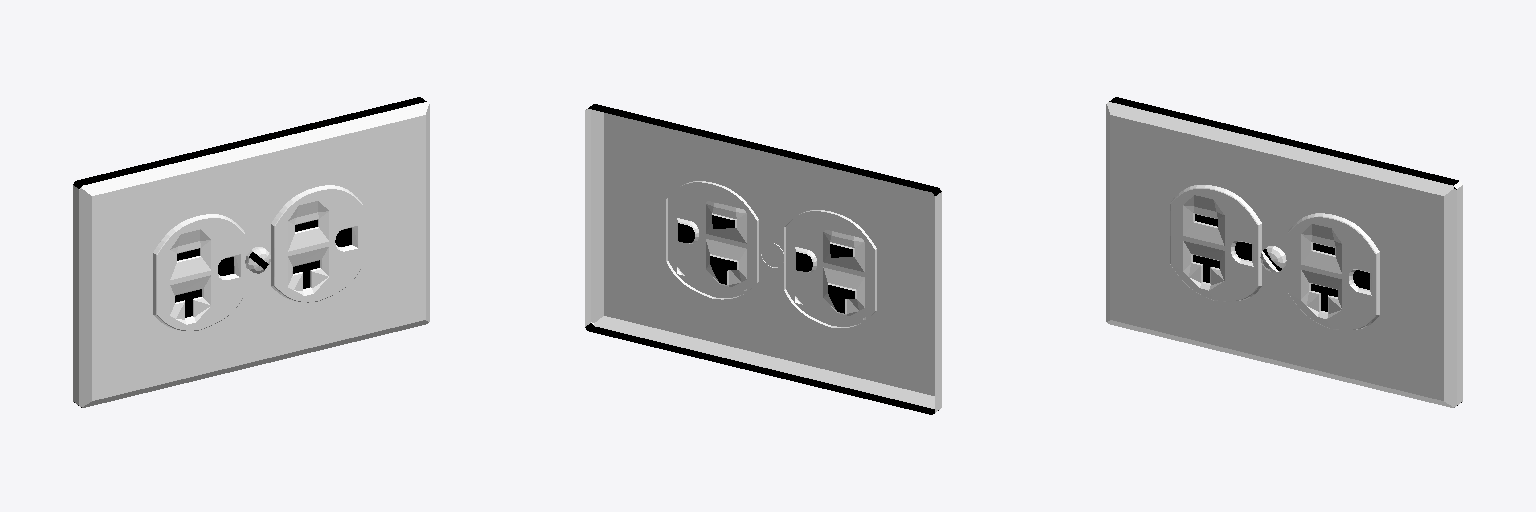
The model's file is outlet.obj.
3 renders of one model, left to right at view 1: azimuth 30°, elevation 25°; view 2: azimuth 150°, elevation 25°; view 3: azimuth 330°, elevation 25°, orthographic.
Parts seen in each view (by area): view 1: outlet01; view 2: outlet01; view 3: outlet01.
Boxes of the visible parts, x1,y1,x2,y2 form: outlet01: [73, 97, 429, 407]; outlet01: [585, 104, 941, 414]; outlet01: [1106, 97, 1462, 407].
Bounding box in the file's own units: 7.06 × 4.28 × 0.5638.